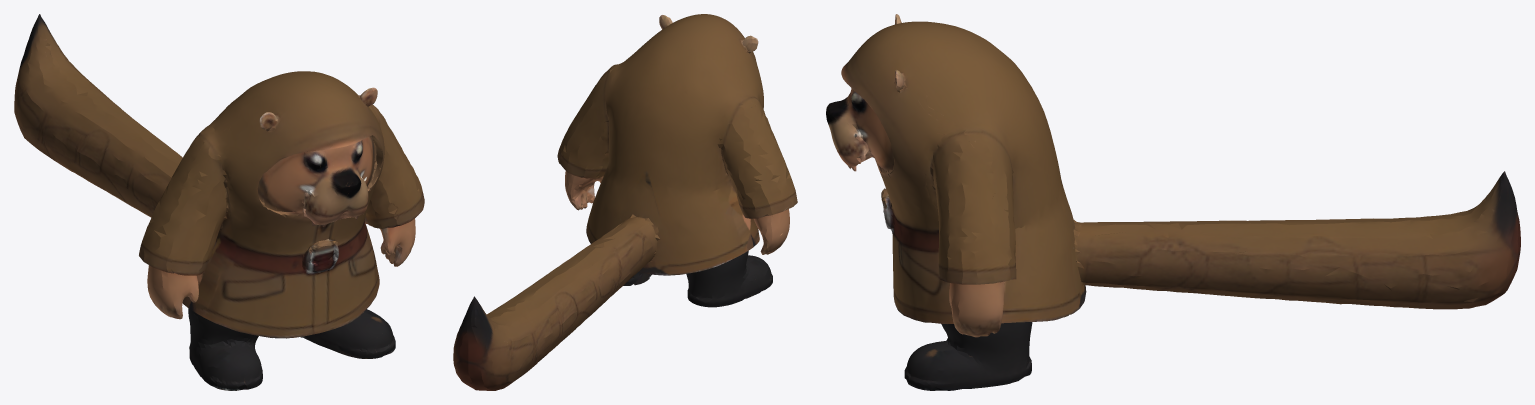
The model's file is rodin_Npc_Tusker_raw.glb.
3 renders of one model, left to right at view 1: azimuth 30°, elevation 25°; view 2: azimuth 150°, elevation 25°; view 3: azimuth 270°, elevation 25°, orthographic. The views are drawn at different scales.
Visible parts, largest first — view 1: model; view 2: model; view 3: model.
Part boxes in pixels (x1,y1,x2,y2): model: [14, 14, 424, 390]; model: [453, 14, 797, 390]; model: [826, 14, 1520, 390].
Size of the model in its own units: 0.9464 by 0.9464 by 1.89.
1 material, 1 textured.
